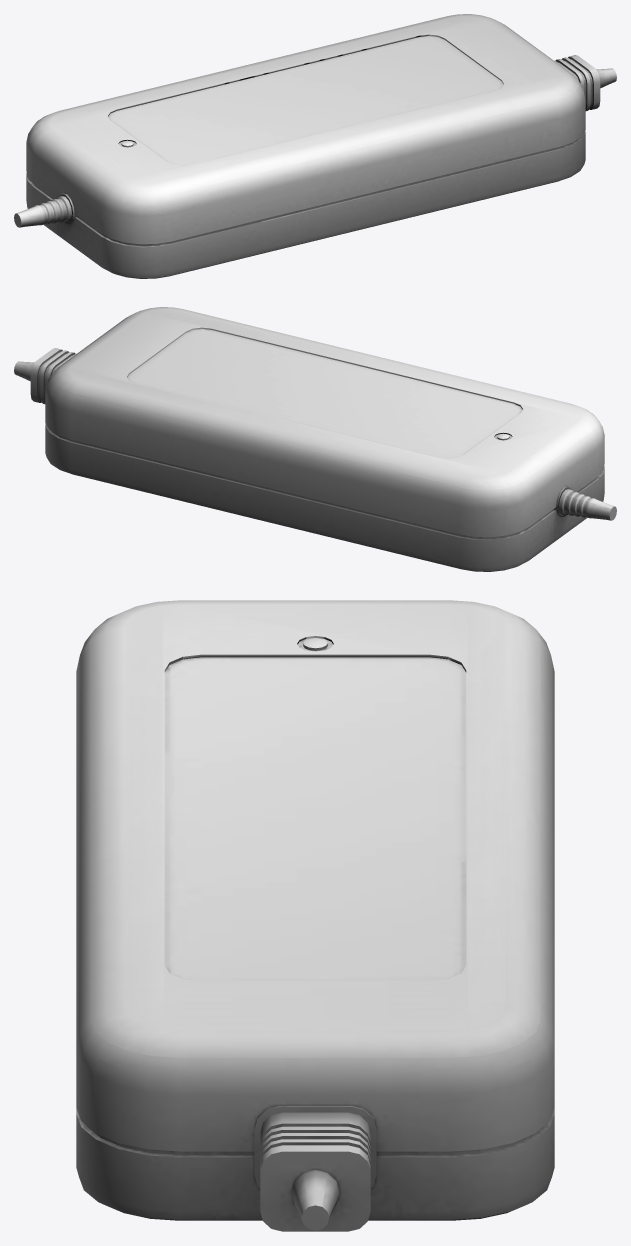
File: psu.glb
3 views of the same model, one above another, from view 1: azimuth 30°, elevation 25°; view 2: azimuth 150°, elevation 25°; view 3: azimuth 270°, elevation 25° (orthographic). The views are drawn at different scales.
Parts seen in each view (by area): view 1: brick; view 2: brick; view 3: brick.
Part boxes in pixels (x1,y1,x2,y2): brick: (14, 14, 616, 278); brick: (14, 307, 616, 571); brick: (76, 600, 554, 1231).
Size of what is drawn, in the model's own units: 0.374 by 0.0526 by 0.13.
3 materials, 3 textured.
